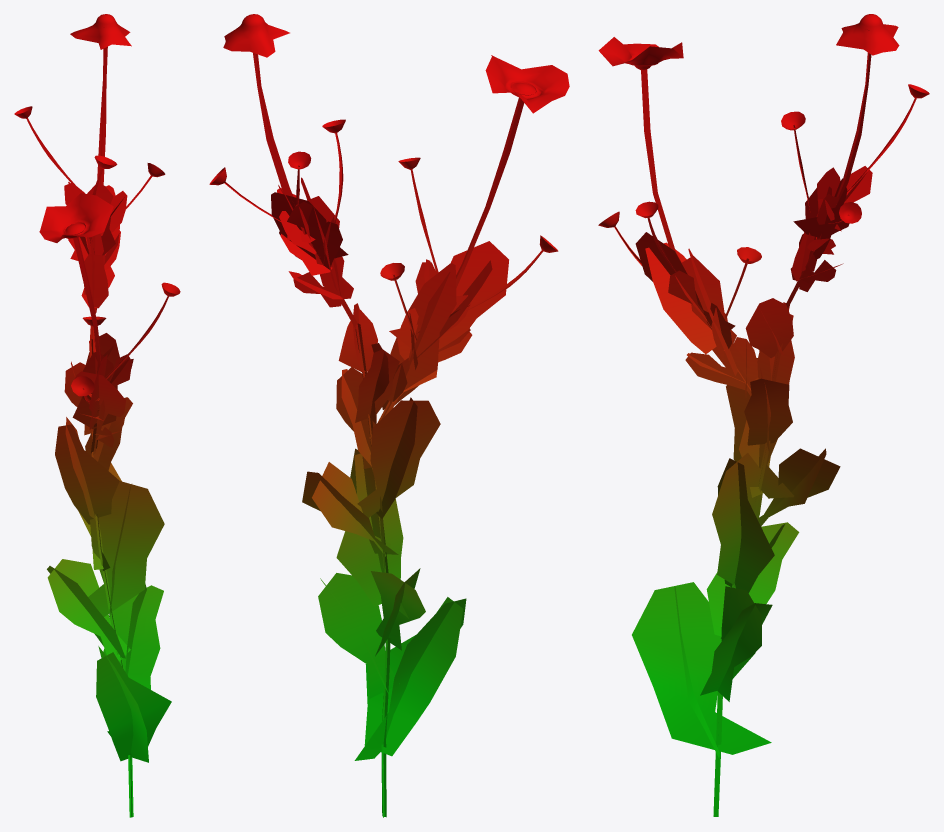
Rendered from Chamomile_LOD0_Var7_ujcnejvja.fbx.
The picture shows the model from 3 angles, left to right: view 1: azimuth 30°, elevation 25°; view 2: azimuth 150°, elevation 25°; view 3: azimuth 270°, elevation 25°; orthographic projection. The views are drawn at different scales.
Visible parts, largest first — view 1: _mylw_Var7_LOD0; view 2: _mylw_Var7_LOD0; view 3: _mylw_Var7_LOD0.
Boxes of the visible parts, x1,y1,x2,y2 form: _mylw_Var7_LOD0: (14,14,180,817); _mylw_Var7_LOD0: (209,14,569,817); _mylw_Var7_LOD0: (598,14,929,816).
Size of the model in its own units: 14.3 by 47.31 by 17.22.
